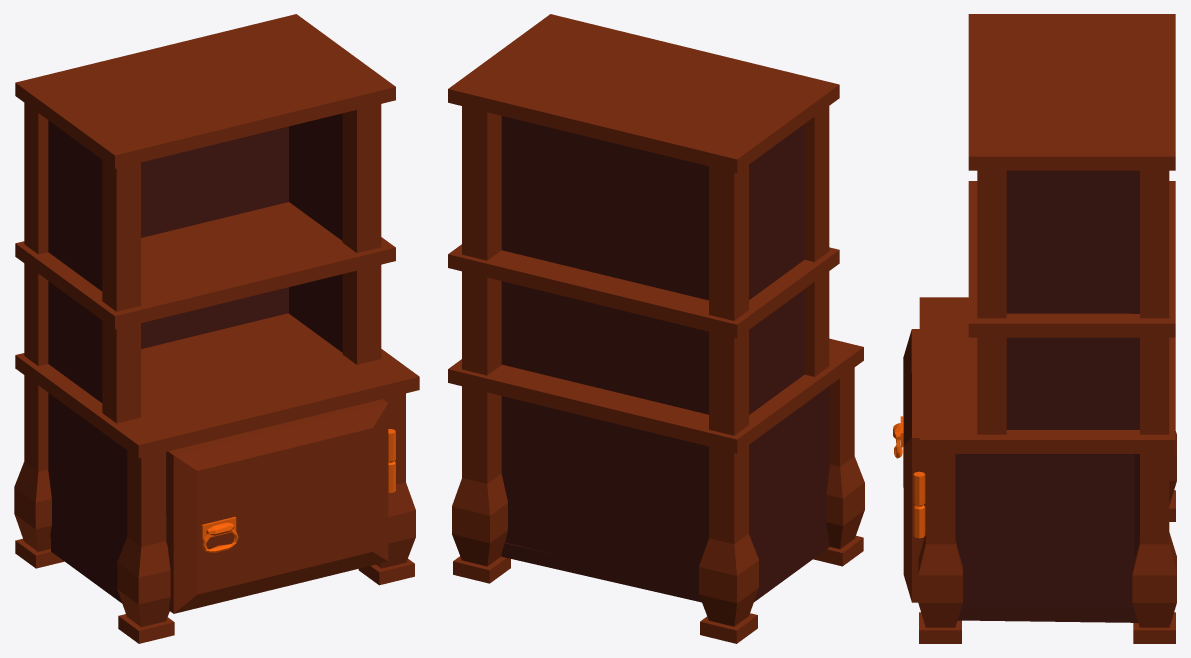
File: Furniture_3.fbx
3 views of the same model, side by side, from view 1: azimuth 30°, elevation 25°; view 2: azimuth 150°, elevation 25°; view 3: azimuth 270°, elevation 25° (orthographic). The views are drawn at different scales.
Visible parts, largest first — view 1: Wealth_Shelw_5, Wealth_Shelw_5_Right_Door; view 2: Wealth_Shelw_5; view 3: Wealth_Shelw_5, Wealth_Shelw_5_Right_Door.
Part boxes in pixels (left/top/right/bottom): Wealth_Shelw_5: left=14, top=14, right=419, bottom=643; Wealth_Shelw_5_Right_Door: left=166, top=399, right=395, bottom=613; Wealth_Shelw_5: left=448, top=14, right=864, bottom=643; Wealth_Shelw_5: left=918, top=14, right=1176, bottom=643; Wealth_Shelw_5_Right_Door: left=893, top=329, right=925, bottom=602.
Bounding box in the file's own units: 110 × 176 × 92.64.
